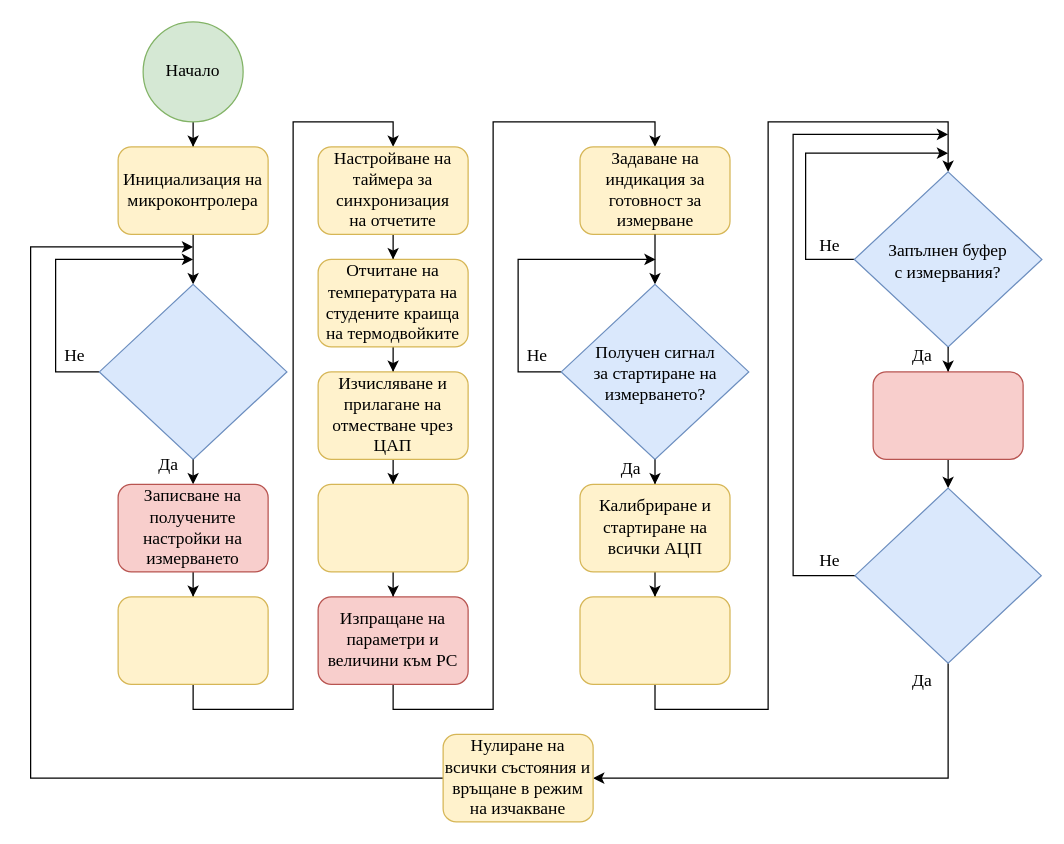
Image size: 1064x844. Some labels were removed from this diagram. Each missing label, with the centre of its shape:
Достигнат целеви брой отчети?: point (947, 575)
Избор и задаване на референтно напрежение за аналоговата част: point (192, 640)
Изпращане на буфер с измервания към PC: point (947, 415)
Изчисляване на броя изходящи USB пакети за измерването: point (392, 527)
Получена заявка от PC за извършване на измерване?: point (192, 371)
Стартиране на таймера за синхронизация на отчетите: point (654, 640)
